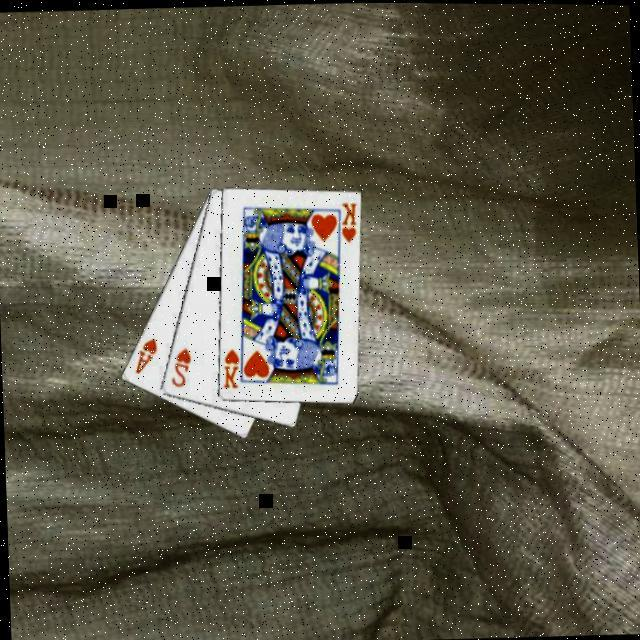2H: (165, 342, 193, 388)
AH: (129, 332, 158, 375)
KH: (335, 196, 359, 242), (217, 344, 241, 389)
